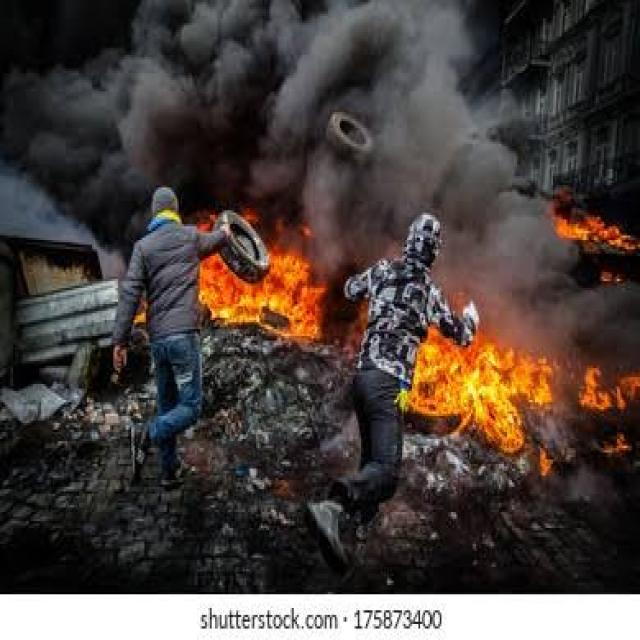fire: (395, 326, 551, 453), (199, 254, 325, 340), (553, 217, 640, 249), (577, 365, 640, 409), (267, 219, 313, 254)
